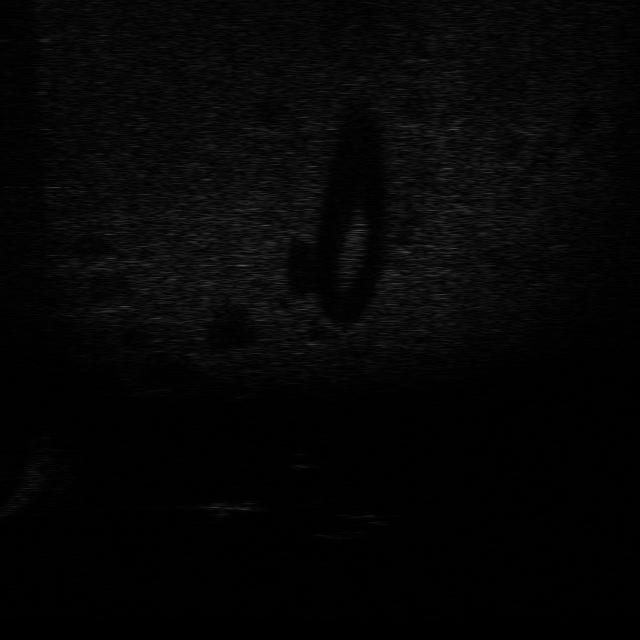ball: (274, 447, 324, 472)
square cage: (200, 493, 274, 522)
tyre: (309, 506, 389, 542)
